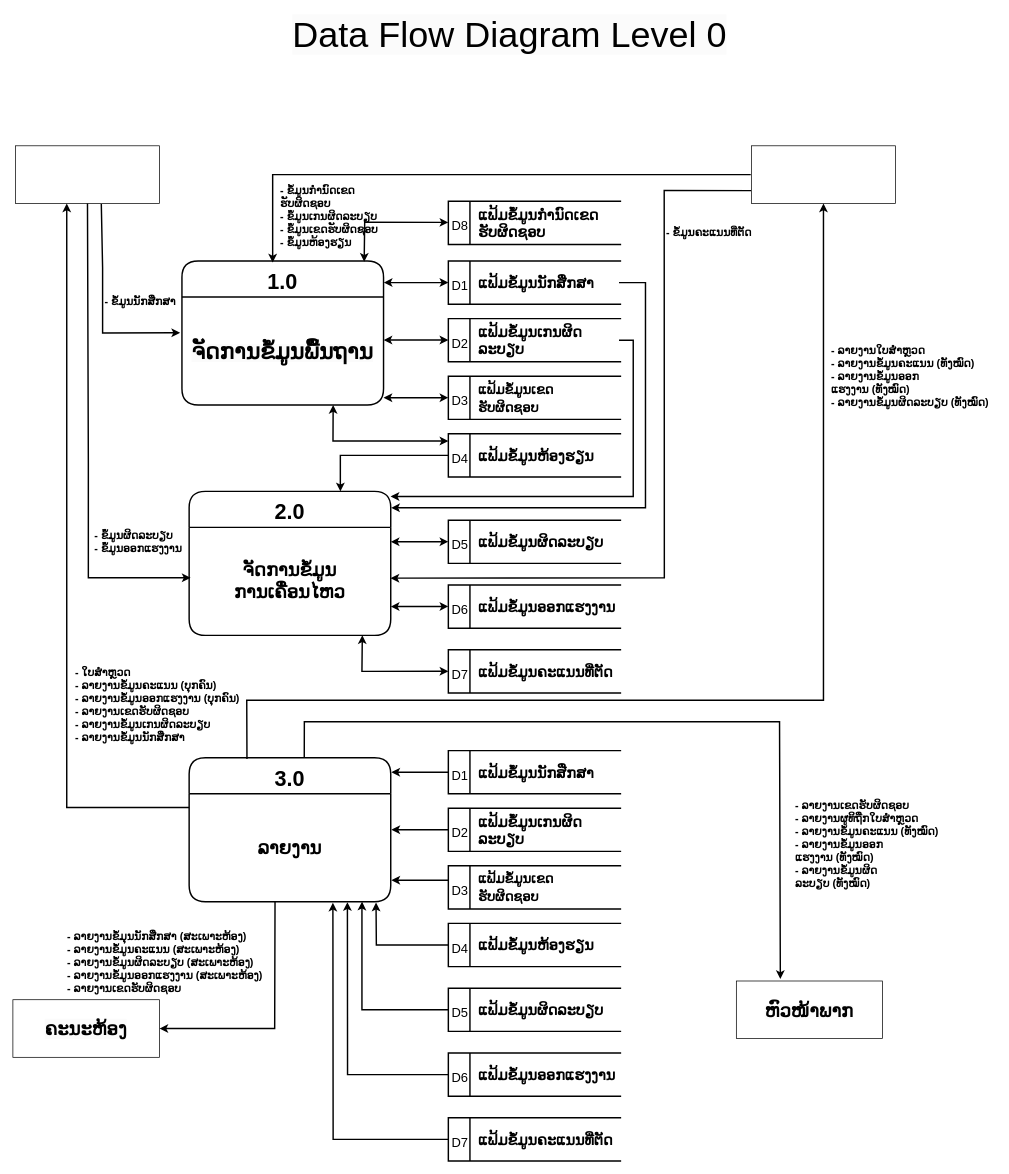
This 1009x1174 diagram has some shape labels left out. Each missing label, with the centre of its shape:
"ນັກສືກສາ" goes at point 87,174.
"ໜ່ວຍງານບໍລິຫານ" goes at point 823,174.
